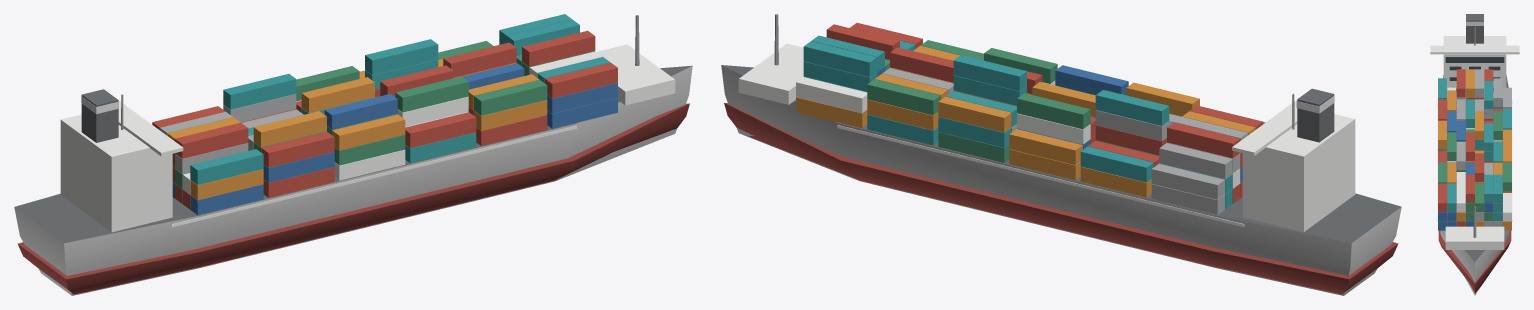
File: container_ship.glb
3 renders of one model, left to right at view 1: azimuth 30°, elevation 25°; view 2: azimuth 150°, elevation 25°; view 3: azimuth 270°, elevation 25°, orthographic. The views are drawn at different scales.
Parts seen in each view (by area): view 1: container_ship; view 2: container_ship; view 3: container_ship.
Part boxes in pixels (x1,y1,x2,y2): container_ship: (14,14,692,295); container_ship: (721,14,1401,295); container_ship: (1430,14,1519,295).
Size of the model in its own units: 118 by 30.5 by 23.
